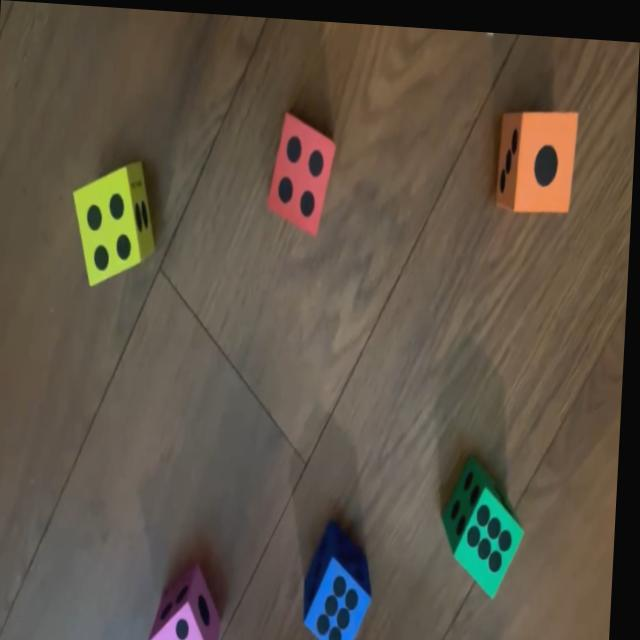cube: (445, 450, 533, 593), (307, 519, 381, 640), (268, 109, 339, 234)
